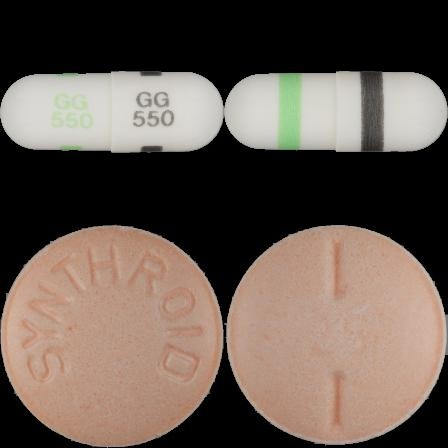67544-848: (0, 0, 224, 224)
